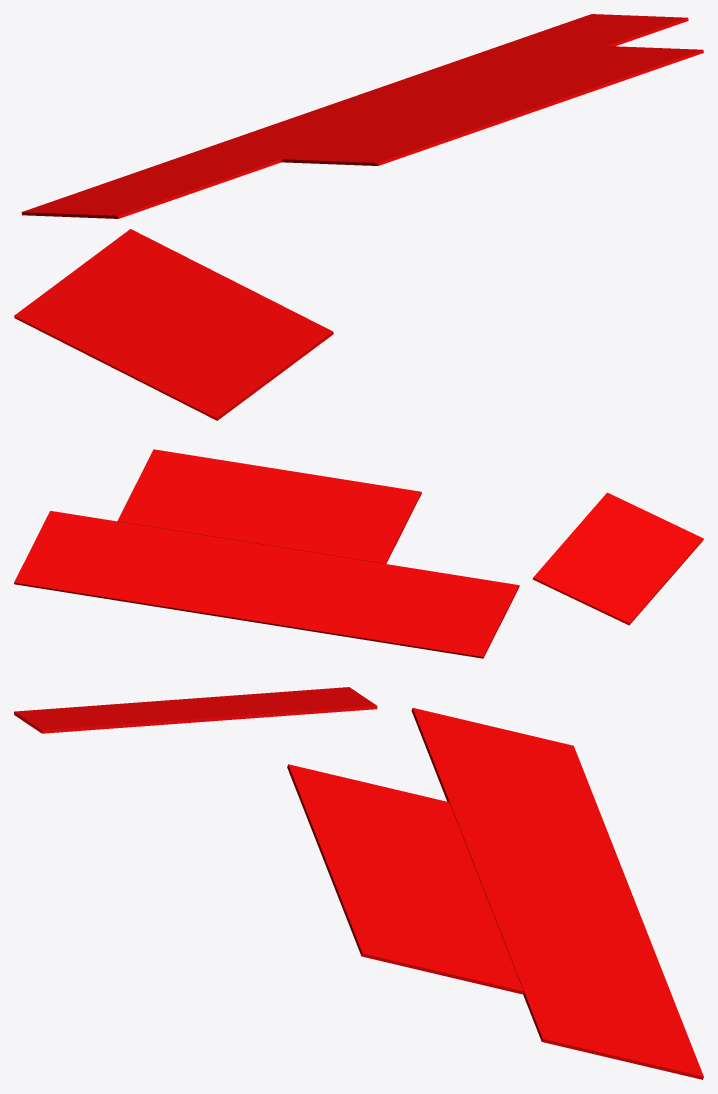
Rendered from panels_j2.glb.
3 renders of one model, top to bottom at view 1: azimuth 30°, elevation 25°; view 2: azimuth 150°, elevation 25°; view 3: azimuth 270°, elevation 25°, orthographic. The views are drawn at different scales.
Visible parts, largest first — view 1: fd3a4b01-6399-417c-9936-9cba1a6a3c2c, 6599a7e5-a485-4843-a5fb-cd4783444bec, 4d54acad-252c-488b-980a-def3a17d7376, cd84aaa6-c75c-4eeb-97ec-98b1921f94e2, 8b73191d-2ff6-452c-8712-67735c55643b, aa2e9983-f45f-4d66-b013-f78cdc8ca6f8, bc0ad407-3827-4e2b-81be-c7819e6544fc, 273021cd-42a7-445f-9121-411d82416c40, 72f0704f-d2d6-4ada-983c-a016c7728611, f7346d8c-4acf-4e54-b7f6-911754bb476c, 4558be44-70ad-4482-80e9-999bf2d85cf1, ef9cf5eb-c666-4bd1-ac0a-0290dc95d216 (+2 smaller); view 2: cd84aaa6-c75c-4eeb-97ec-98b1921f94e2, e34f5eff-c552-464e-8127-35b6b80ac0ff, f7346d8c-4acf-4e54-b7f6-911754bb476c, 4558be44-70ad-4482-80e9-999bf2d85cf1, ef9cf5eb-c666-4bd1-ac0a-0290dc95d216, 83bfd3ad-e11a-42e8-aaf6-e0db7d2907b6, bc0ad407-3827-4e2b-81be-c7819e6544fc, 8b73191d-2ff6-452c-8712-67735c55643b, 72f0704f-d2d6-4ada-983c-a016c7728611, aa2e9983-f45f-4d66-b013-f78cdc8ca6f8, 273021cd-42a7-445f-9121-411d82416c40, 4d54acad-252c-488b-980a-def3a17d7376 (+2 smaller); view 3: 72f0704f-d2d6-4ada-983c-a016c7728611, f7346d8c-4acf-4e54-b7f6-911754bb476c, cd84aaa6-c75c-4eeb-97ec-98b1921f94e2, 273021cd-42a7-445f-9121-411d82416c40, 8b73191d-2ff6-452c-8712-67735c55643b, aa2e9983-f45f-4d66-b013-f78cdc8ca6f8, bc0ad407-3827-4e2b-81be-c7819e6544fc, 83bfd3ad-e11a-42e8-aaf6-e0db7d2907b6, 4558be44-70ad-4482-80e9-999bf2d85cf1, e34f5eff-c552-464e-8127-35b6b80ac0ff, ef9cf5eb-c666-4bd1-ac0a-0290dc95d216, fd3a4b01-6399-417c-9936-9cba1a6a3c2c (+2 smaller).
Boxes of the visible parts, x1,y1,x2,y2 form: fd3a4b01-6399-417c-9936-9cba1a6a3c2c: (149,297,333,420); 6599a7e5-a485-4843-a5fb-cd4783444bec: (81,263,265,386); 4d54acad-252c-488b-980a-def3a17d7376: (14,229,197,351); cd84aaa6-c75c-4eeb-97ec-98b1921f94e2: (21,184,199,218); 8b73191d-2ff6-452c-8712-67735c55643b: (281,131,459,165); aa2e9983-f45f-4d66-b013-f78cdc8ca6f8: (444,74,622,109); bc0ad407-3827-4e2b-81be-c7819e6544fc: (103,155,281,190); 273021cd-42a7-445f-9121-411d82416c40: (363,102,540,137); 72f0704f-d2d6-4ada-983c-a016c7728611: (526,46,703,80); f7346d8c-4acf-4e54-b7f6-911754bb476c: (511,14,688,46); 4558be44-70ad-4482-80e9-999bf2d85cf1: (185,127,361,161); ef9cf5eb-c666-4bd1-ac0a-0290dc95d216: (348,70,524,102); cd84aaa6-c75c-4eeb-97ec-98b1921f94e2: (416,574,519,658); e34f5eff-c552-464e-8127-35b6b80ac0ff: (215,542,317,626); f7346d8c-4acf-4e54-b7f6-911754bb476c: (14,511,116,594); 4558be44-70ad-4482-80e9-999bf2d85cf1: (282,553,384,637); ef9cf5eb-c666-4bd1-ac0a-0290dc95d216: (148,532,250,615); 83bfd3ad-e11a-42e8-aaf6-e0db7d2907b6: (81,521,183,605); bc0ad407-3827-4e2b-81be-c7819e6544fc: (349,564,451,647); 8b73191d-2ff6-452c-8712-67735c55643b: (318,481,421,563); 72f0704f-d2d6-4ada-983c-a016c7728611: (117,449,220,531); aa2e9983-f45f-4d66-b013-f78cdc8ca6f8: (184,460,287,542); 273021cd-42a7-445f-9121-411d82416c40: (251,470,354,552); 4d54acad-252c-488b-980a-def3a17d7376: (532,549,654,625); 72f0704f-d2d6-4ada-983c-a016c7728611: (343,906,523,994); f7346d8c-4acf-4e54-b7f6-911754bb476c: (523,991,703,1079); cd84aaa6-c75c-4eeb-97ec-98b1921f94e2: (411,708,592,792); 273021cd-42a7-445f-9121-411d82416c40: (305,811,486,896); 8b73191d-2ff6-452c-8712-67735c55643b: (287,764,467,849); aa2e9983-f45f-4d66-b013-f78cdc8ca6f8: (324,859,504,943); bc0ad407-3827-4e2b-81be-c7819e6544fc: (430,755,610,840); 83bfd3ad-e11a-42e8-aaf6-e0db7d2907b6: (505,944,685,1029); 4558be44-70ad-4482-80e9-999bf2d85cf1: (449,802,629,887); e34f5eff-c552-464e-8127-35b6b80ac0ff: (468,849,647,934); ef9cf5eb-c666-4bd1-ac0a-0290dc95d216: (487,897,666,981); fd3a4b01-6399-417c-9936-9cba1a6a3c2c: (14,703,153,733).
Bounding box in the file's own units: 9.49 × 1.12 × 6.9.
